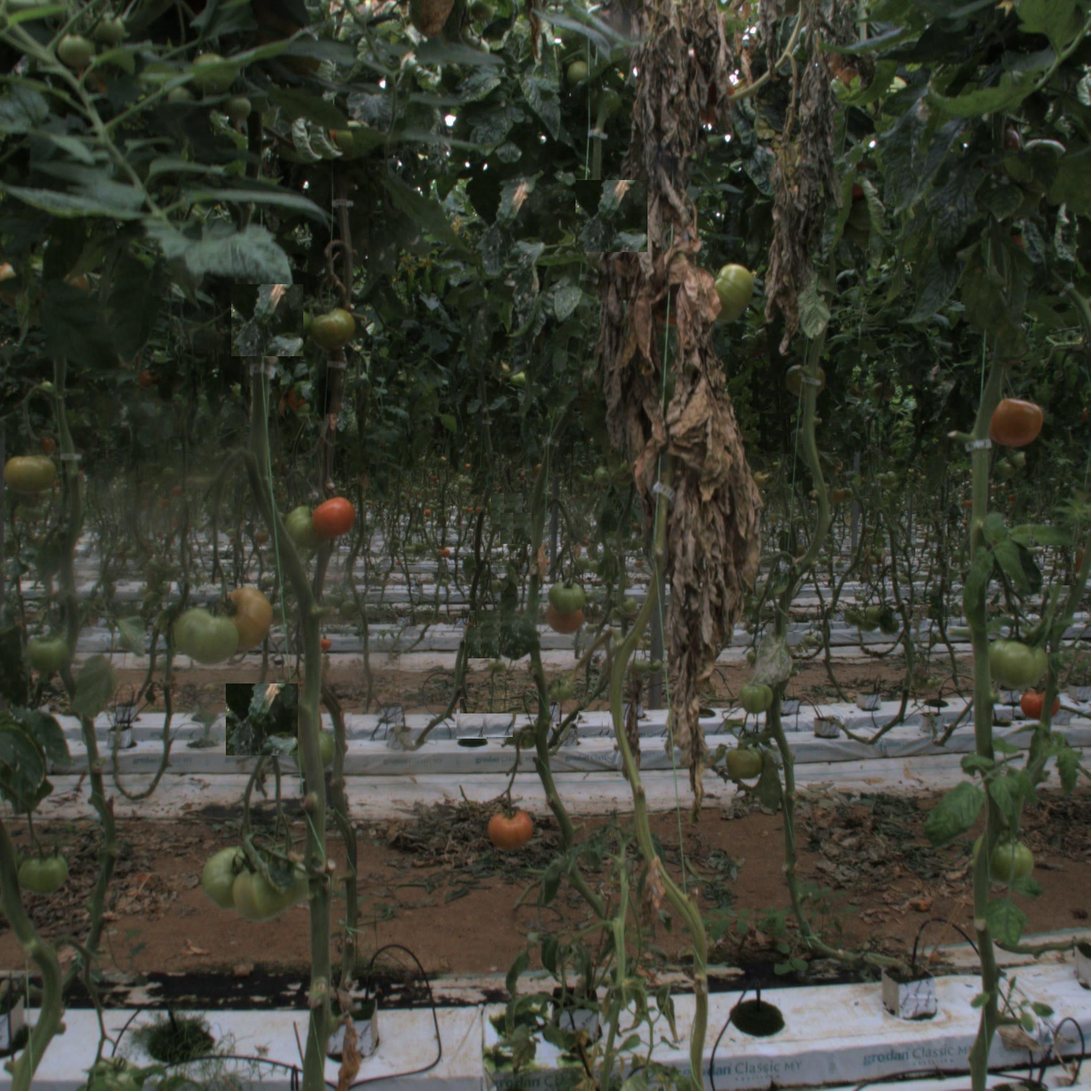fully-ripe: (986, 392, 1043, 449), (315, 496, 354, 536), (493, 809, 532, 848), (1021, 684, 1059, 722)
semi-ripe: (216, 589, 273, 646), (308, 301, 356, 349)
unripe: (233, 846, 308, 920), (175, 598, 241, 664), (203, 849, 260, 906), (990, 631, 1047, 688), (976, 830, 1033, 886), (697, 262, 753, 319), (21, 844, 69, 892), (7, 448, 55, 496), (287, 507, 326, 547), (27, 631, 66, 670), (726, 739, 765, 778), (547, 578, 586, 617), (736, 679, 775, 717)
